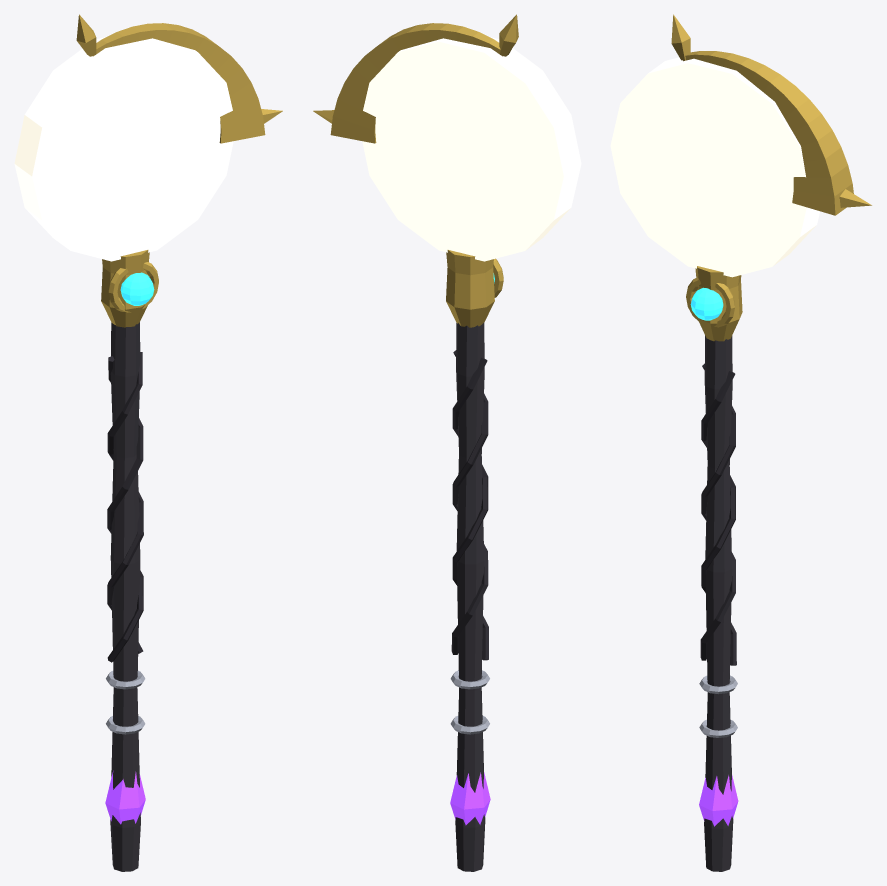
The model's file is staff_crescentmoon.glb.
3 renders of one model, left to right at view 1: azimuth 30°, elevation 25°; view 2: azimuth 150°, elevation 25°; view 3: azimuth 330°, elevation 25°, orthographic. The views are drawn at different scales.
Visible parts, largest first — view 1: Cm_Disc, Cm_Shaft, Cm_Moon, Cm_Neck, Cm_Vine1, Cm_Vine0, Cm_Spike, Cm_Gem, Cm_GemRing, Cm_Horn1; view 2: Cm_Disc, Cm_Shaft, Cm_Moon, Cm_Neck, Cm_Vine1, Cm_Vine0, Cm_Spike, Cm_Horn1; view 3: Cm_Disc, Cm_Shaft, Cm_Moon, Cm_Neck, Cm_Vine0, Cm_Vine1, Cm_Spike, Cm_Gem, Cm_GemRing, Cm_Horn1.
Boxes of the visible parts, bbox=[...] form: Cm_Disc: bbox=[14, 37, 233, 261]; Cm_Shaft: bbox=[110, 322, 140, 871]; Cm_Moon: bbox=[93, 23, 265, 143]; Cm_Neck: bbox=[101, 250, 149, 327]; Cm_Vine1: bbox=[107, 356, 143, 662]; Cm_Vine0: bbox=[107, 352, 143, 653]; Cm_Spike: bbox=[105, 770, 145, 824]; Cm_Gem: bbox=[120, 272, 154, 305]; Cm_GemRing: bbox=[108, 262, 158, 312]; Cm_Horn1: bbox=[76, 14, 96, 56]; Cm_Disc: bbox=[362, 37, 581, 261]; Cm_Shaft: bbox=[455, 322, 485, 871]; Cm_Moon: bbox=[330, 23, 502, 143]; Cm_Neck: bbox=[446, 250, 494, 327]; Cm_Vine1: bbox=[452, 357, 488, 660]; Cm_Vine0: bbox=[451, 350, 488, 654]; Cm_Spike: bbox=[450, 772, 490, 825]; Cm_Horn1: bbox=[499, 14, 518, 56]; Cm_Disc: bbox=[610, 50, 819, 277]; Cm_Shaft: bbox=[704, 335, 733, 871]; Cm_Moon: bbox=[683, 51, 853, 215]; Cm_Neck: bbox=[695, 266, 742, 341]; Cm_Vine0: bbox=[701, 371, 736, 665]; Cm_Vine1: bbox=[700, 363, 735, 660]; Cm_Spike: bbox=[699, 775, 738, 826]; Cm_Gem: bbox=[690, 287, 723, 320]; Cm_GemRing: bbox=[686, 277, 734, 327]; Cm_Horn1: bbox=[671, 14, 690, 60].
Size of the model in its own units: 0.7249 by 2.3 by 0.154.
